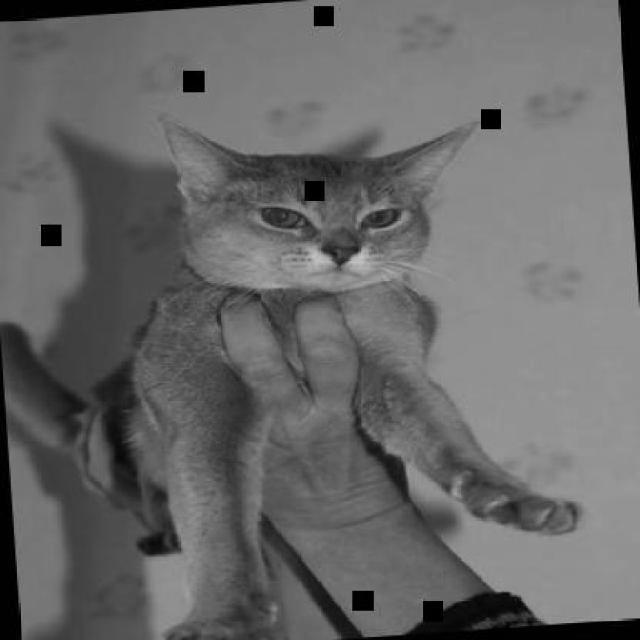Cat: (0, 84, 592, 638)
